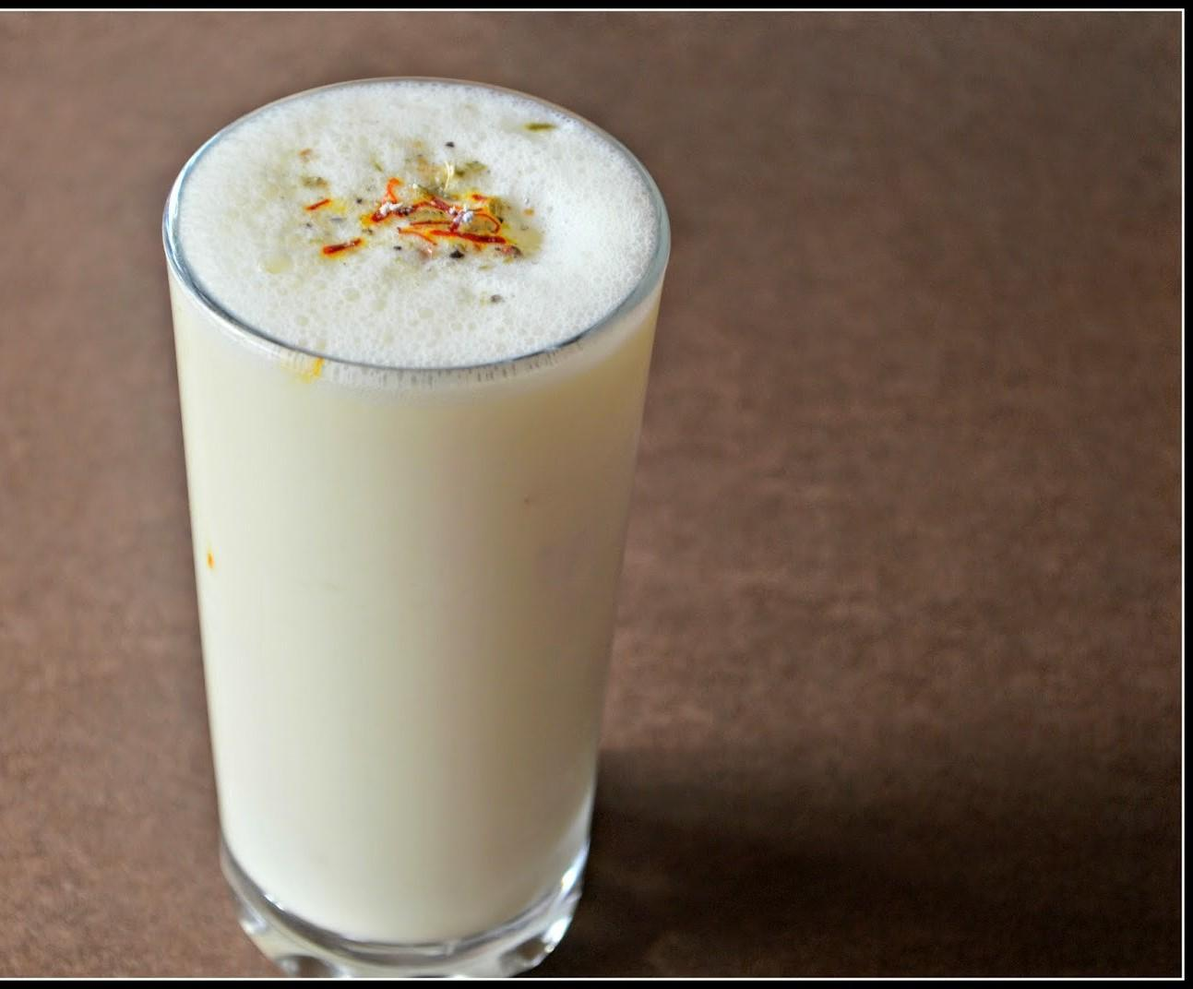Lassi: (165, 81, 661, 940)
